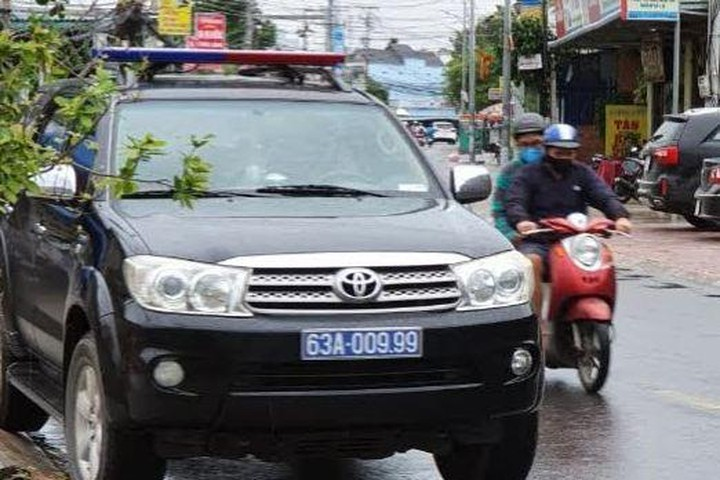plate: (300, 328, 421, 360)
